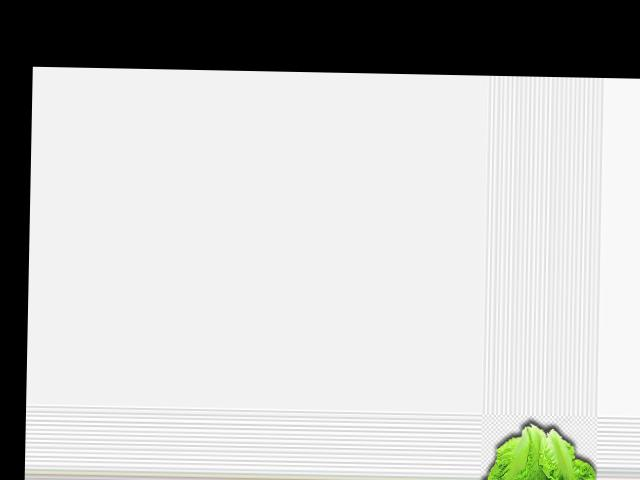lettuce: (482, 420, 599, 480)
